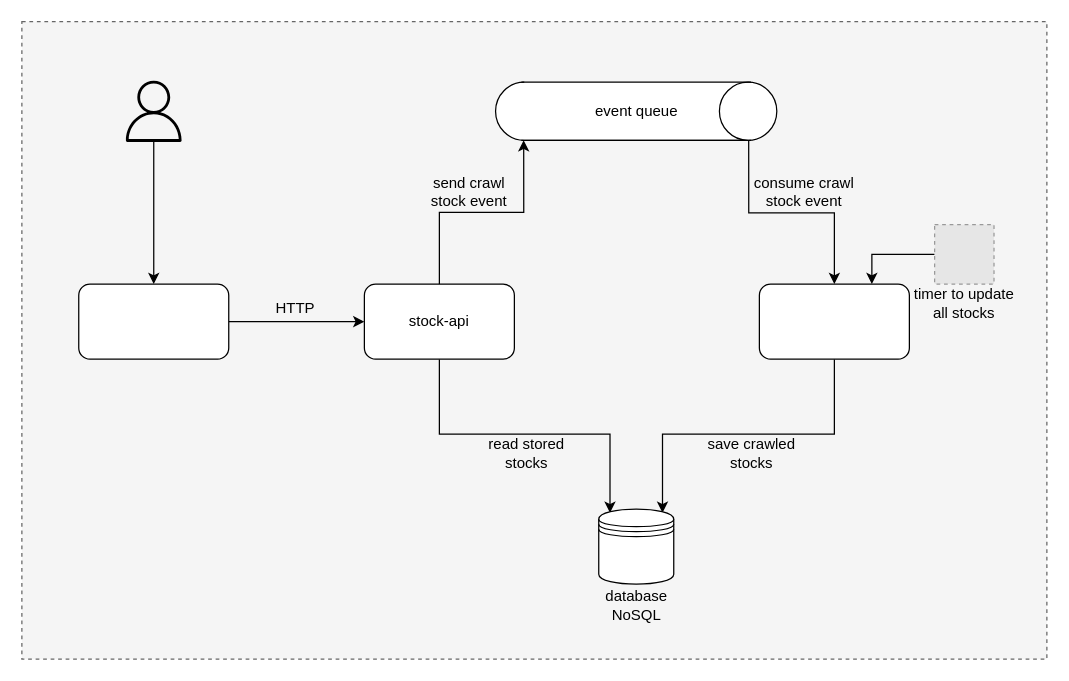
Image size: 1069x681. Some labels were removed from this diagram. Grey dashed boxes stand in for pictures. The shapes that lost their labels are listed below. From the top down, each one's box as (x1, y1, x2, y2) in pixels, then its label:
(78, 283, 229, 359): stock-ui
(758, 283, 909, 359): stock-crawler
